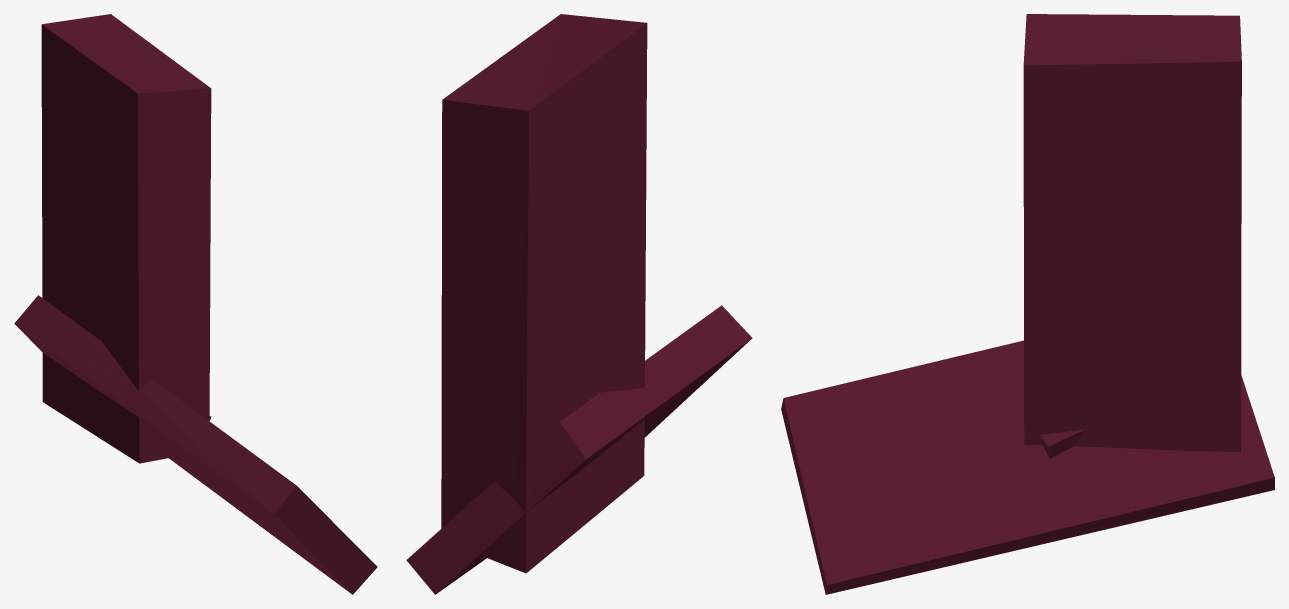
3 renders of one model, left to right at view 1: azimuth 30°, elevation 25°; view 2: azimuth 150°, elevation 25°; view 3: azimuth 270°, elevation 25°, orthographic. The views are drawn at different scales.
Parts seen in each view (by area): view 1: 567_Cube.2286; view 2: 567_Cube.2286; view 3: 567_Cube.2286.
Boxes of the visible parts, x1,y1,x2,y2 form: 567_Cube.2286: (14, 14, 377, 594); 567_Cube.2286: (406, 14, 752, 594); 567_Cube.2286: (781, 14, 1274, 594).
Size of the model in its own units: 6.33 by 15.09 by 13.14.
